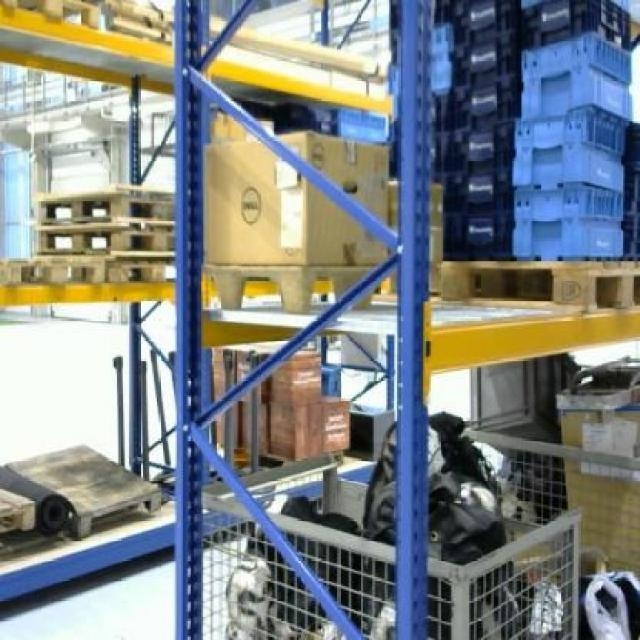box: (201, 132, 387, 266), (269, 402, 323, 460), (268, 353, 322, 407), (325, 393, 350, 456)
